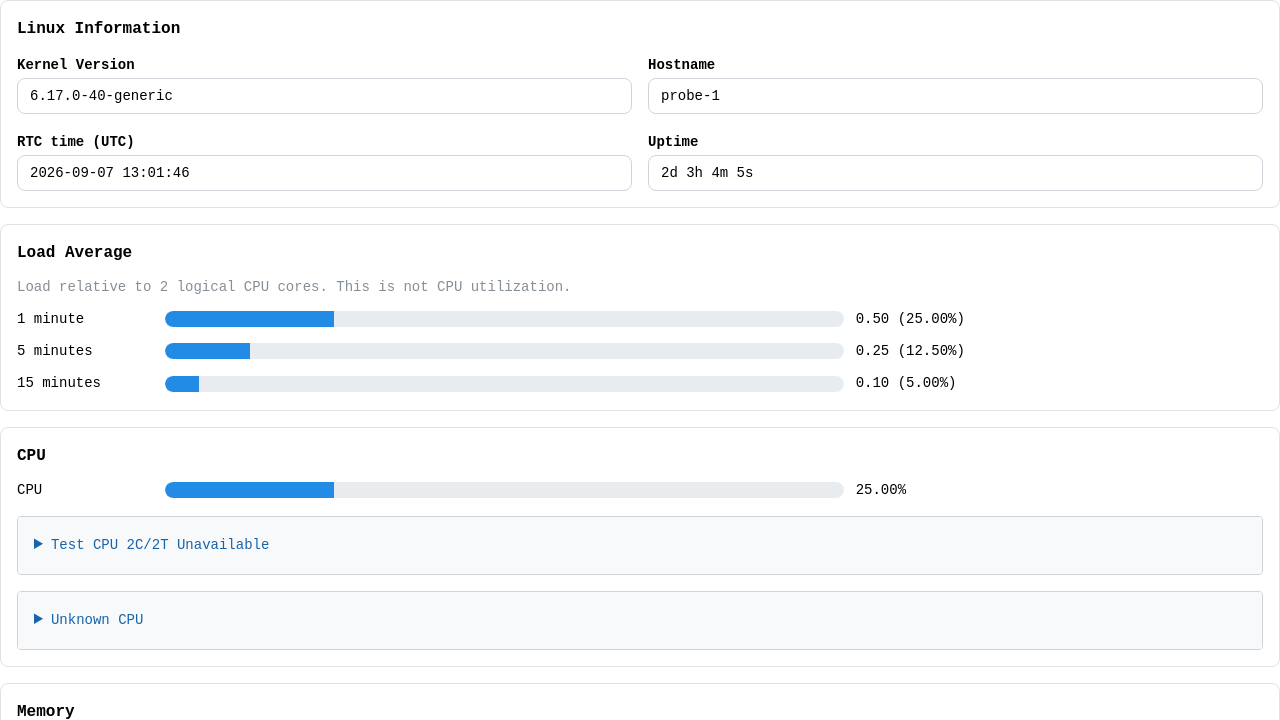
Test: keeps missing CPU data unavailable instead of guessing its group or frequency
Click the heading "Unknown CPU" at coordinates (97, 620), box [18,592,1262,649]
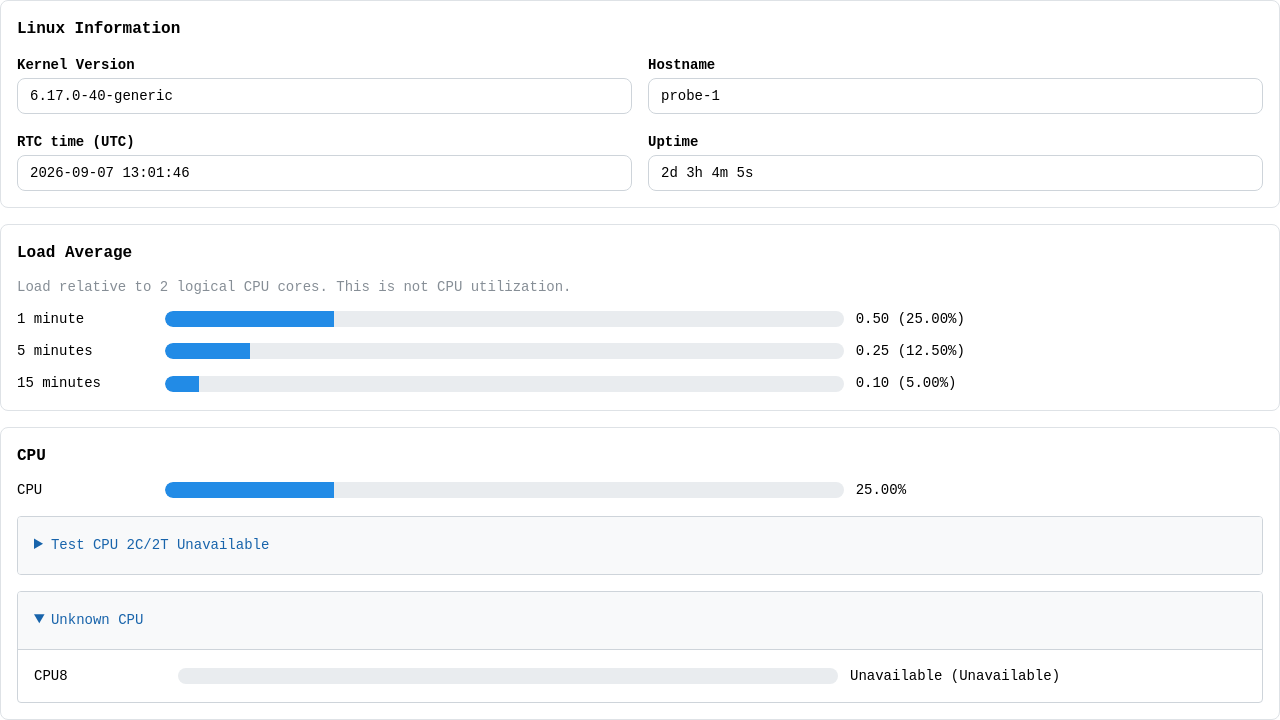
Result: the text "Unavailable (Unavailable)" is shown at [850,668,1060,684]
